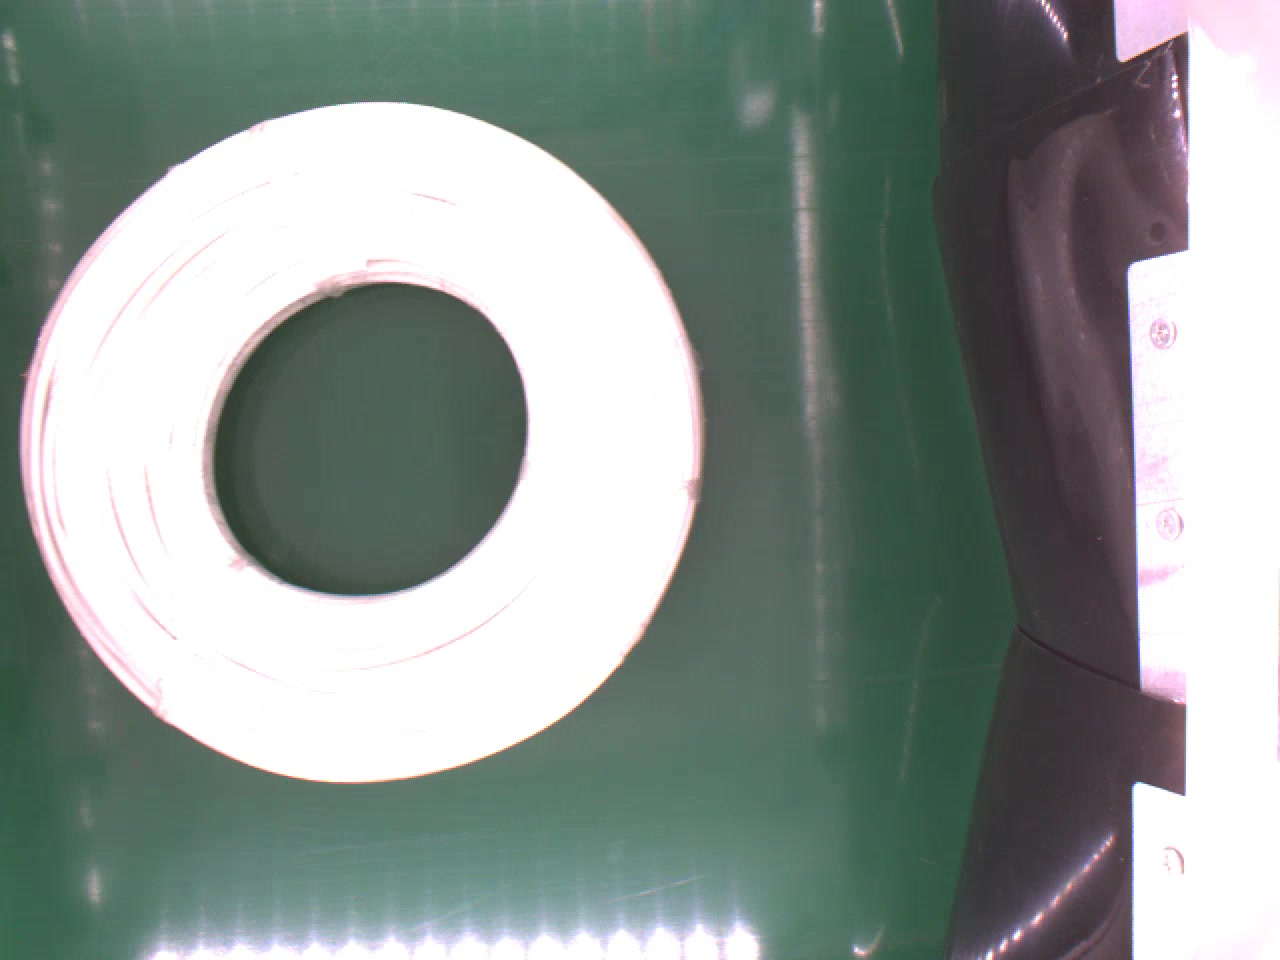white: (16, 98, 700, 791)
